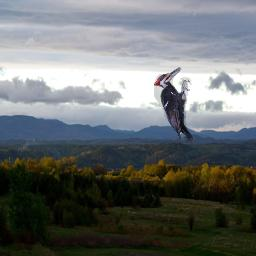Woodpecker: (154, 67, 194, 143)
